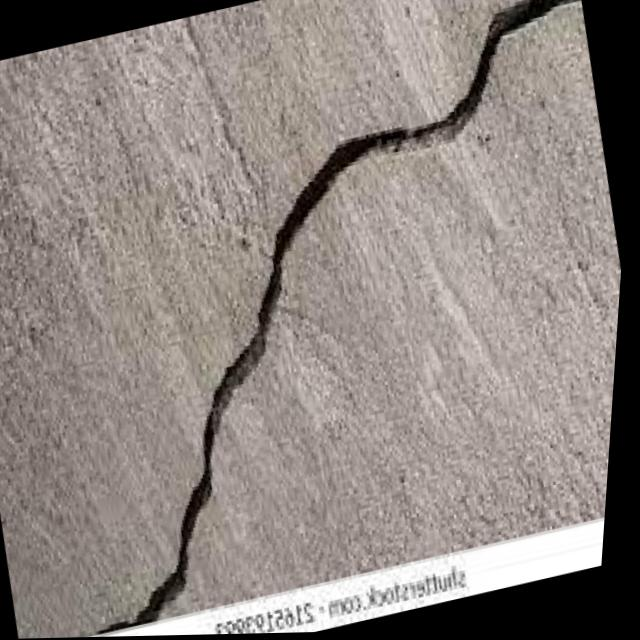Crack: (207, 0, 633, 326), (101, 325, 320, 608)
